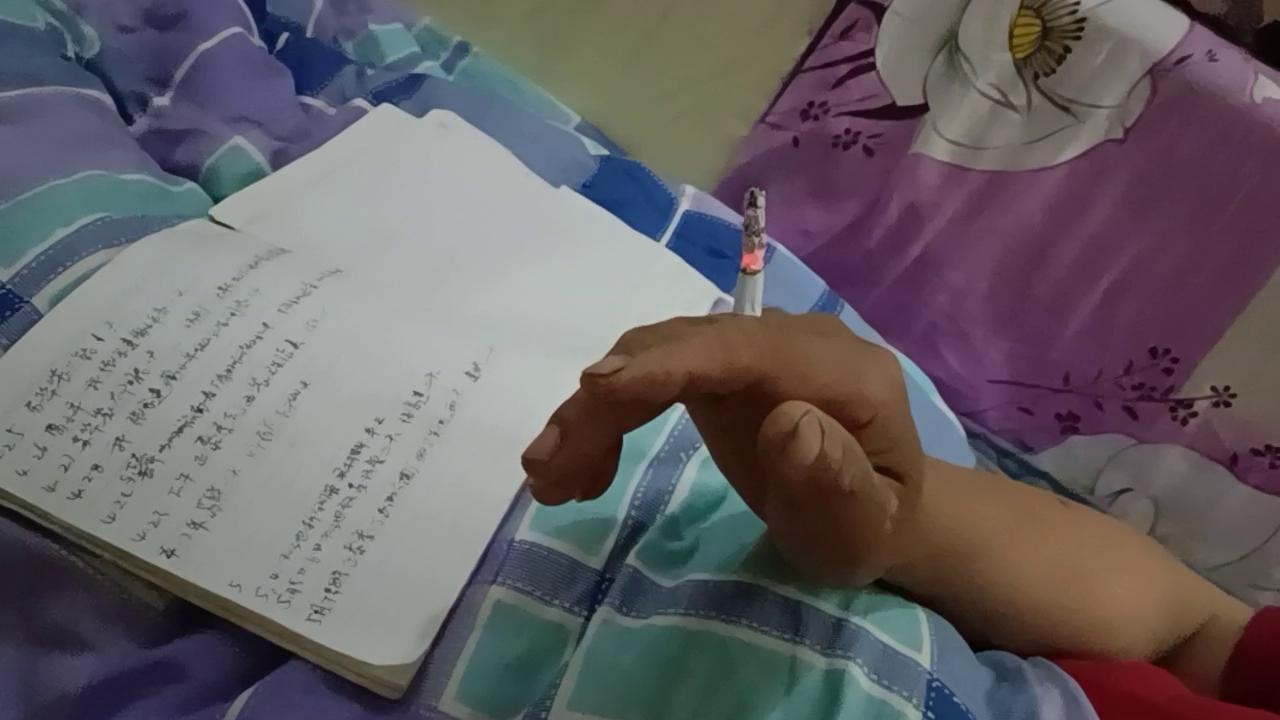smoke: (731, 186, 767, 349)
